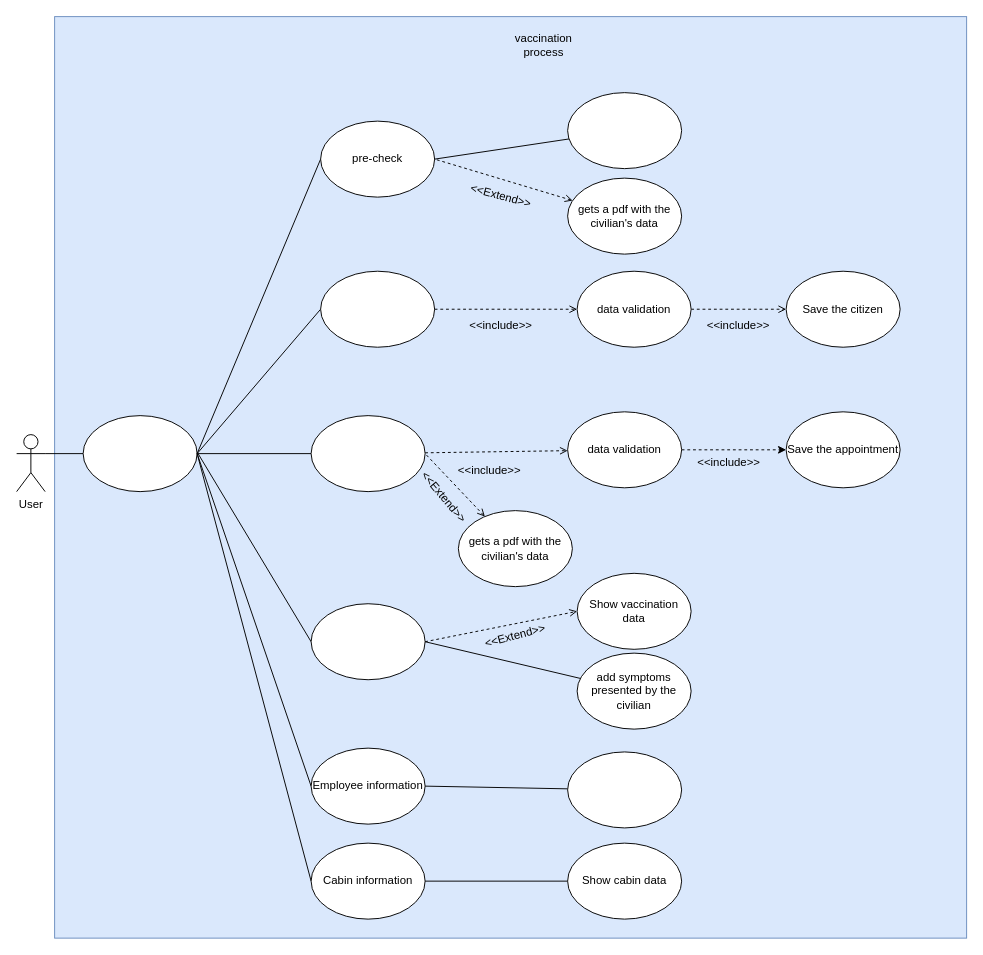
Image size: 983x955. Some labels were removed from this diagram. Here are the shapes that lost their labels. From the top down, the box of each, then its label:
(567, 92, 682, 169): Show citizen and apointment data
(320, 270, 435, 347): citizen registration
(82, 415, 197, 492): Login
(310, 415, 425, 492): Making appointments
(310, 603, 425, 680): Appointment process
(567, 751, 682, 828): Show employee data
